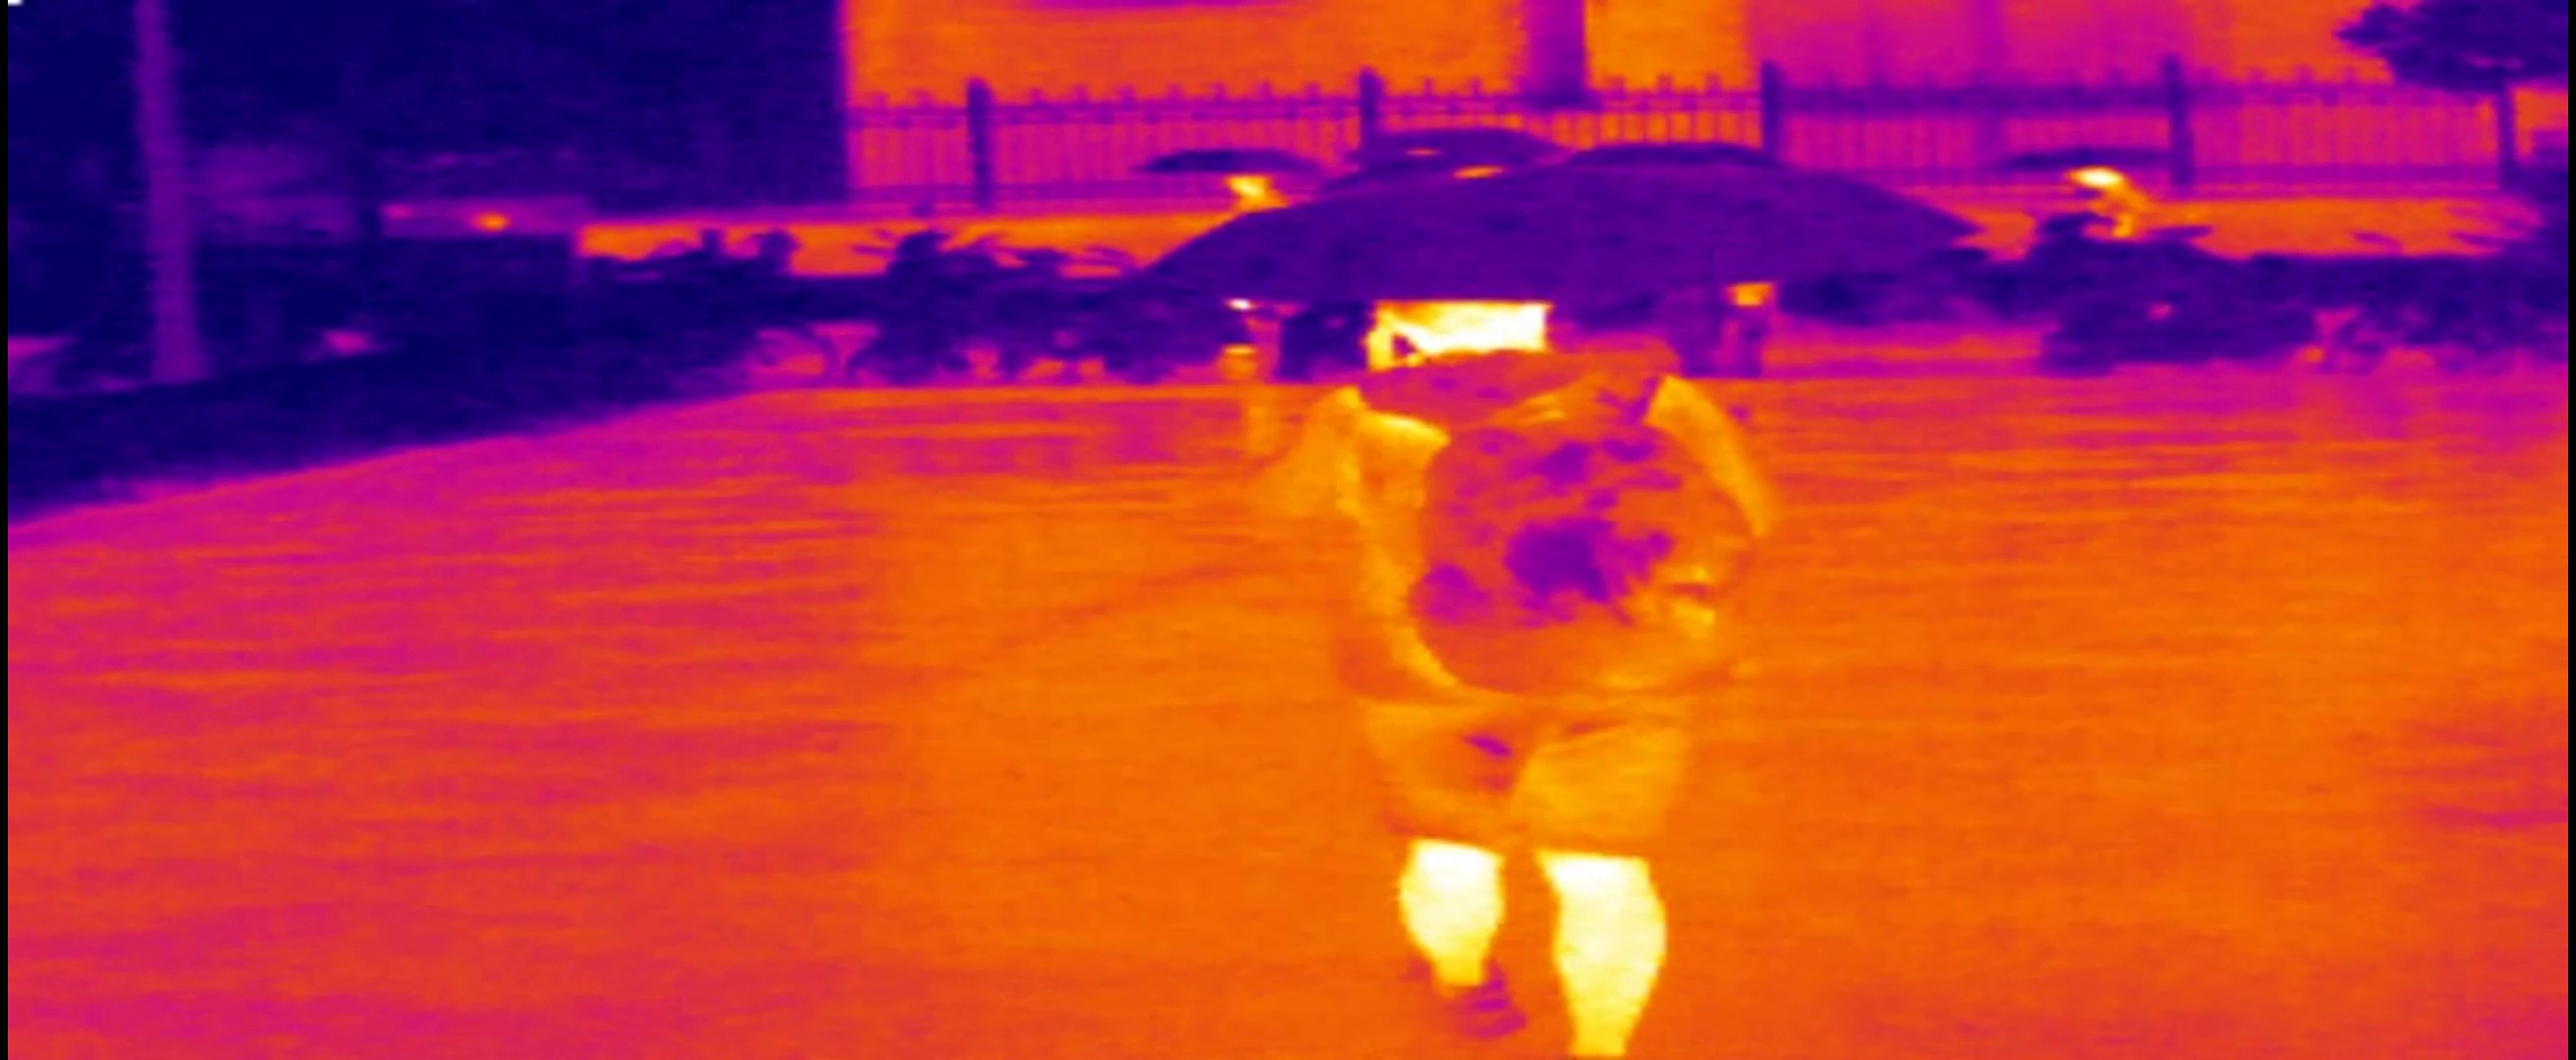person: (1283, 292, 1779, 1060), (2066, 167, 2155, 249), (1203, 170, 1281, 215)
